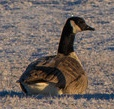goose: (14, 14, 102, 102)
